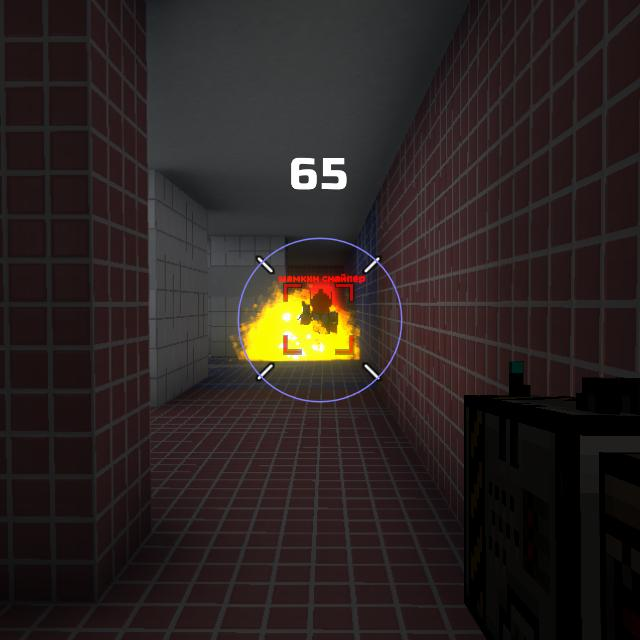Enemy: (294, 290, 337, 334)
